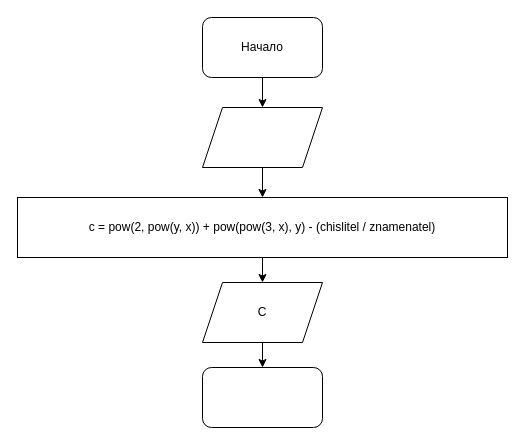
Some shapes in this 525 by 445 pixel diagram are drawn without their labels. The shapes that lost their labels are listed below. From the top down, each one's centre as x and y in pixels, then its label:
the point at 262,137: x,y,z
the point at 262,397: Конец
